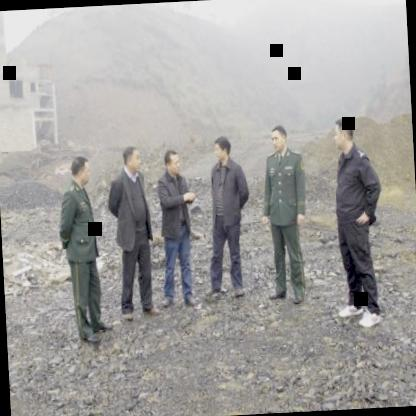head: (66, 151, 95, 189), (328, 118, 356, 152), (118, 143, 144, 174), (212, 134, 234, 164), (268, 124, 290, 154), (162, 146, 183, 177)
